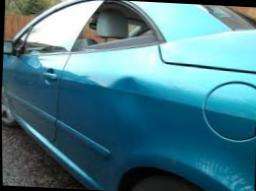Fender: (101, 72, 153, 140)
